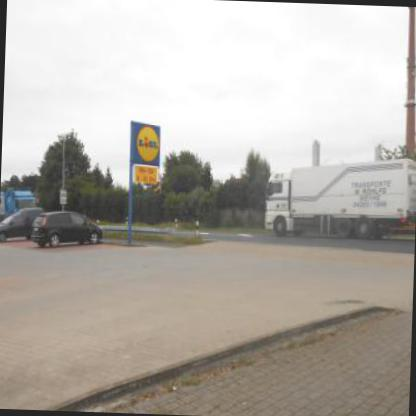truck: (263, 164, 415, 245), (0, 186, 41, 229)
